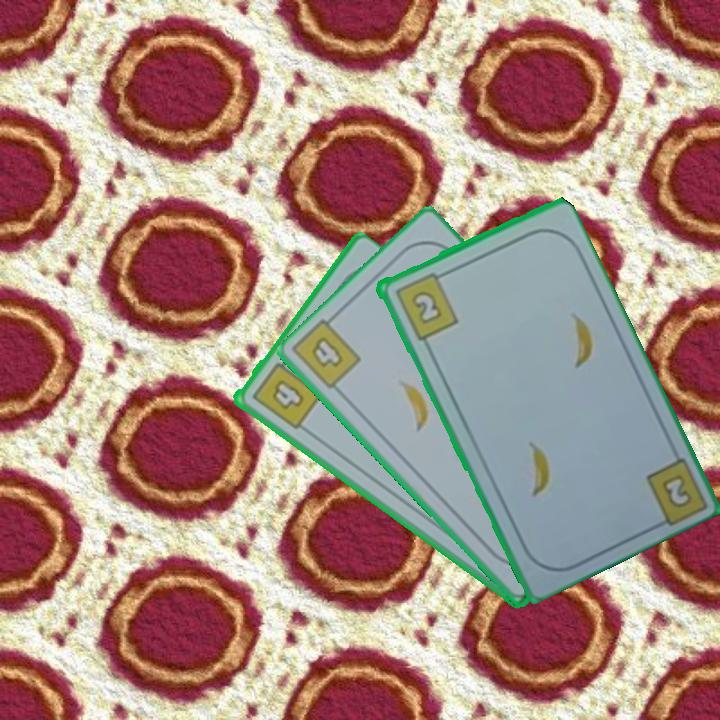2b: (641, 451, 708, 531), (391, 268, 461, 343)
4b: (247, 352, 324, 433), (307, 332, 346, 371)
